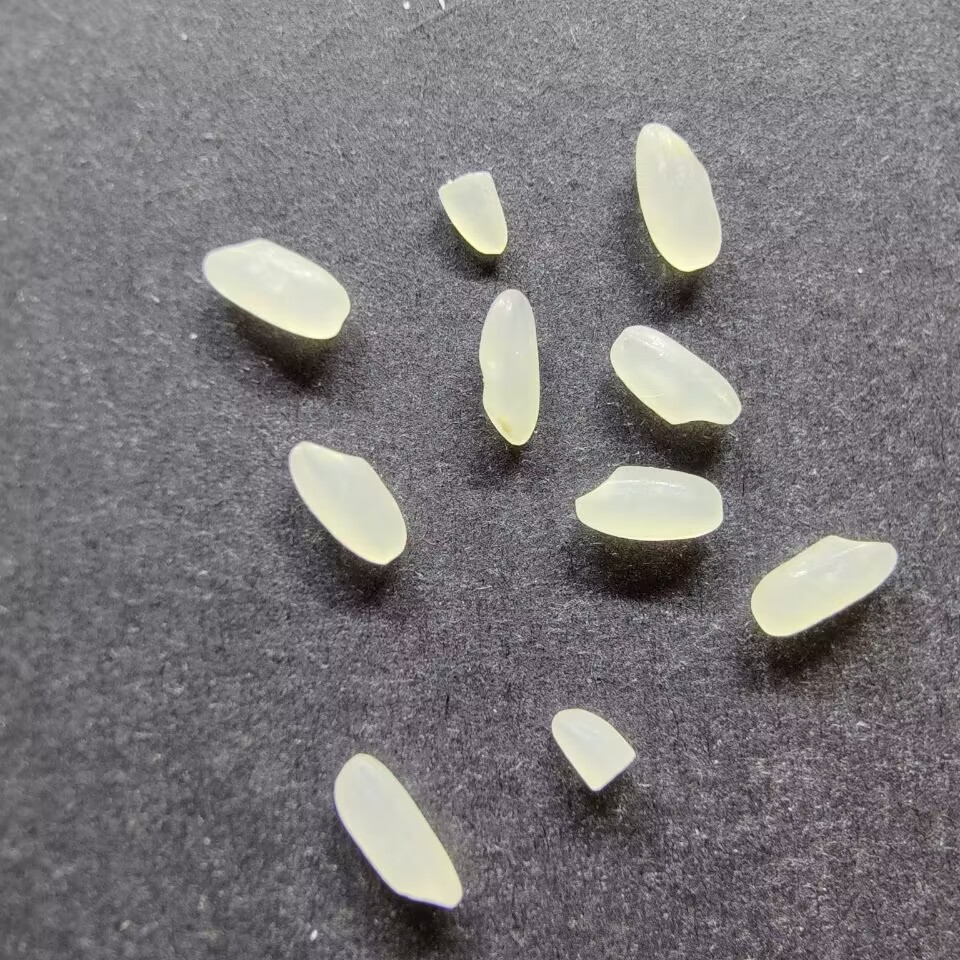broken: (549, 707, 638, 792), (435, 170, 510, 255)
rice: (331, 752, 466, 911), (200, 236, 353, 340), (748, 533, 898, 638), (285, 440, 409, 565), (607, 324, 744, 427), (633, 121, 723, 272), (572, 464, 725, 542), (476, 287, 542, 447)
